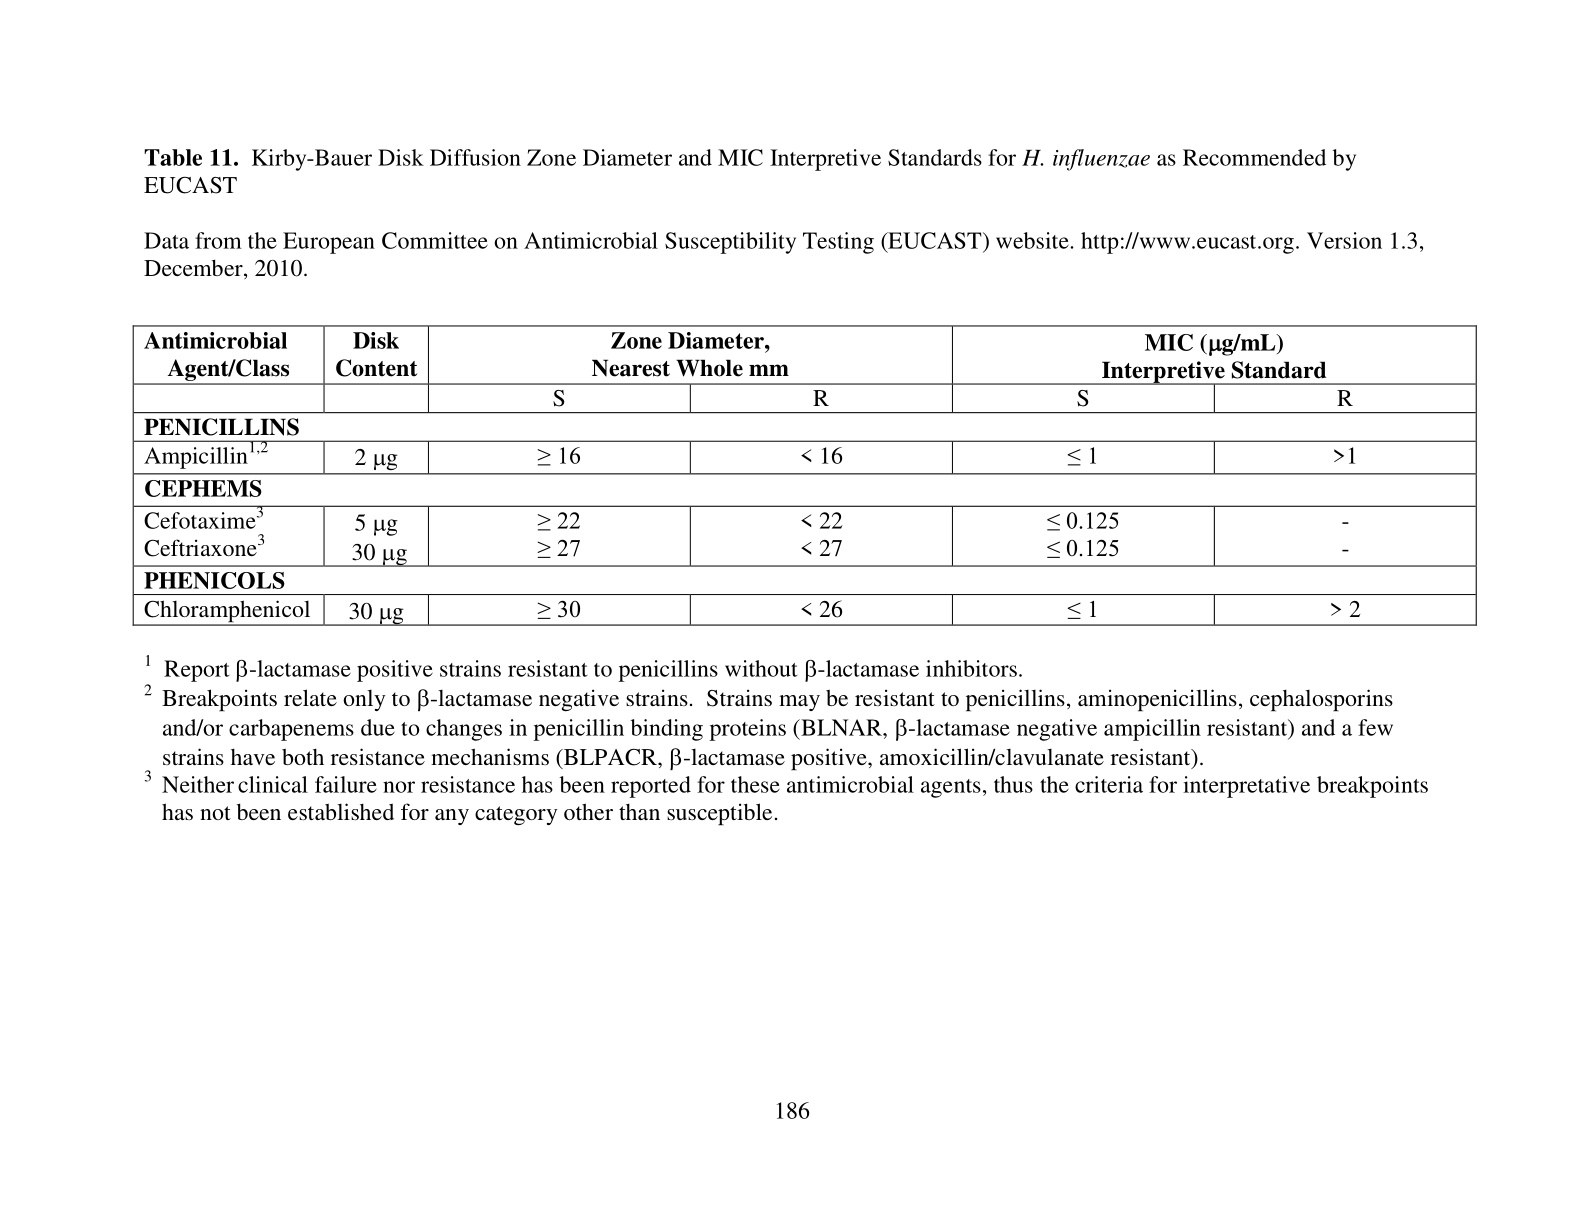merged_cells: (130, 325, 1477, 626)
